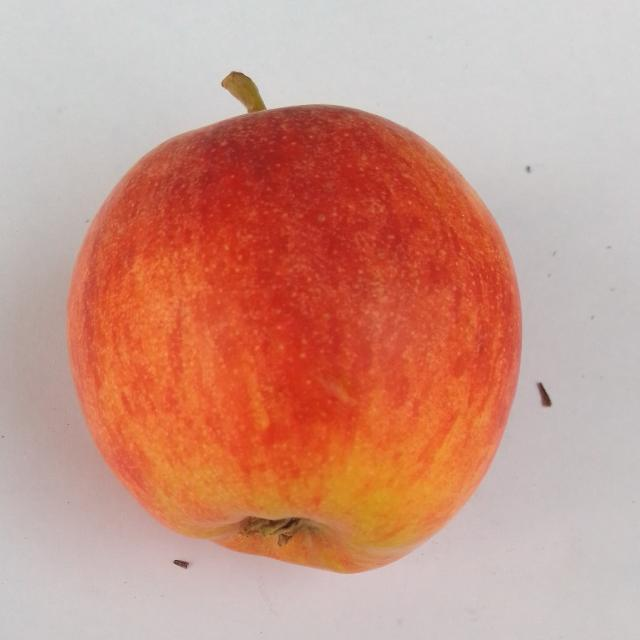Fresh Apple: (58, 97, 525, 583)
